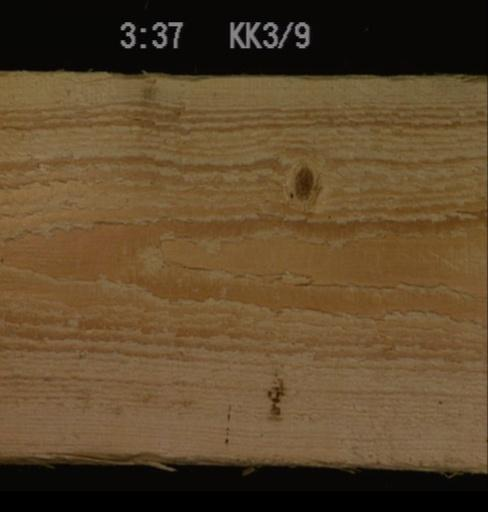sound_knot: (288, 164, 316, 200)
wave: (0, 449, 486, 474), (20, 69, 485, 82)
